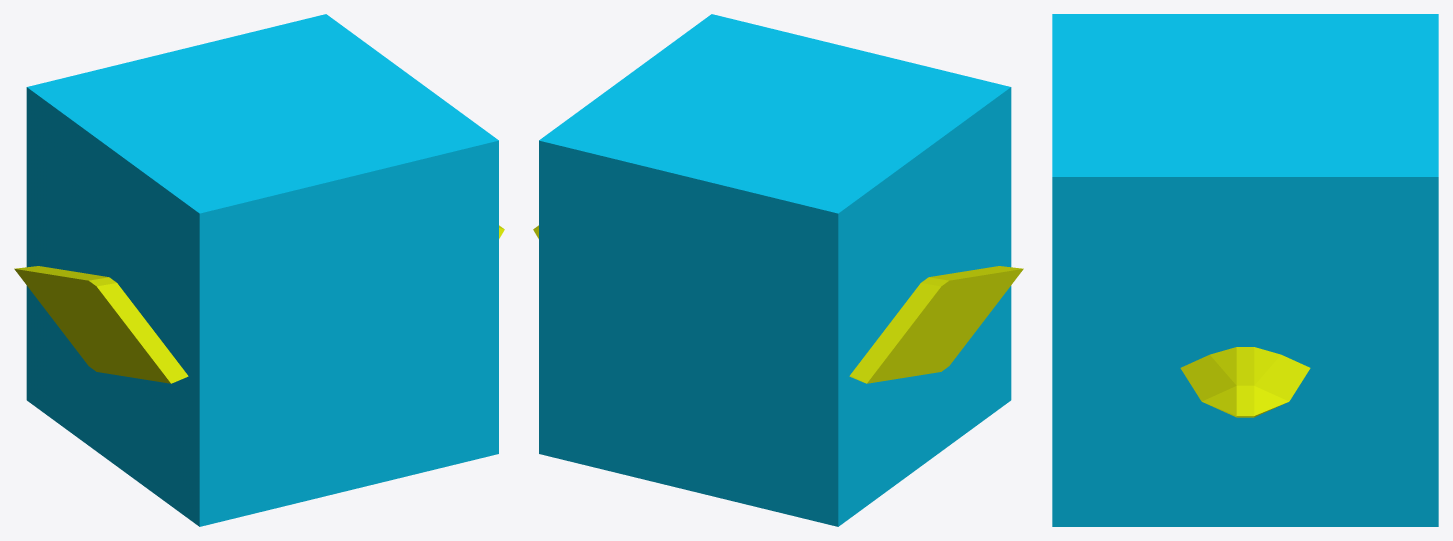
The model's file is excalibur.glb.
The picture shows the model from 3 angles, left to right: view 1: azimuth 30°, elevation 25°; view 2: azimuth 150°, elevation 25°; view 3: azimuth 270°, elevation 25°; orthographic projection. The views are drawn at different scales.
Parts seen in each view (by area): view 1: Actor, Excalibur; view 2: Actor, Excalibur; view 3: Actor, Excalibur.
Boxes of the visible parts, <box> form: Actor: <box>26,14,498,526</box>; Excalibur: <box>14,225,504,383</box>; Actor: <box>539,14,1011,526</box>; Excalibur: <box>533,225,1023,383</box>; Actor: <box>1052,14,1438,526</box>; Excalibur: <box>1180,347,1310,417</box>.
Bounding box in the file's own units: 3 × 2.2 × 2.2.
